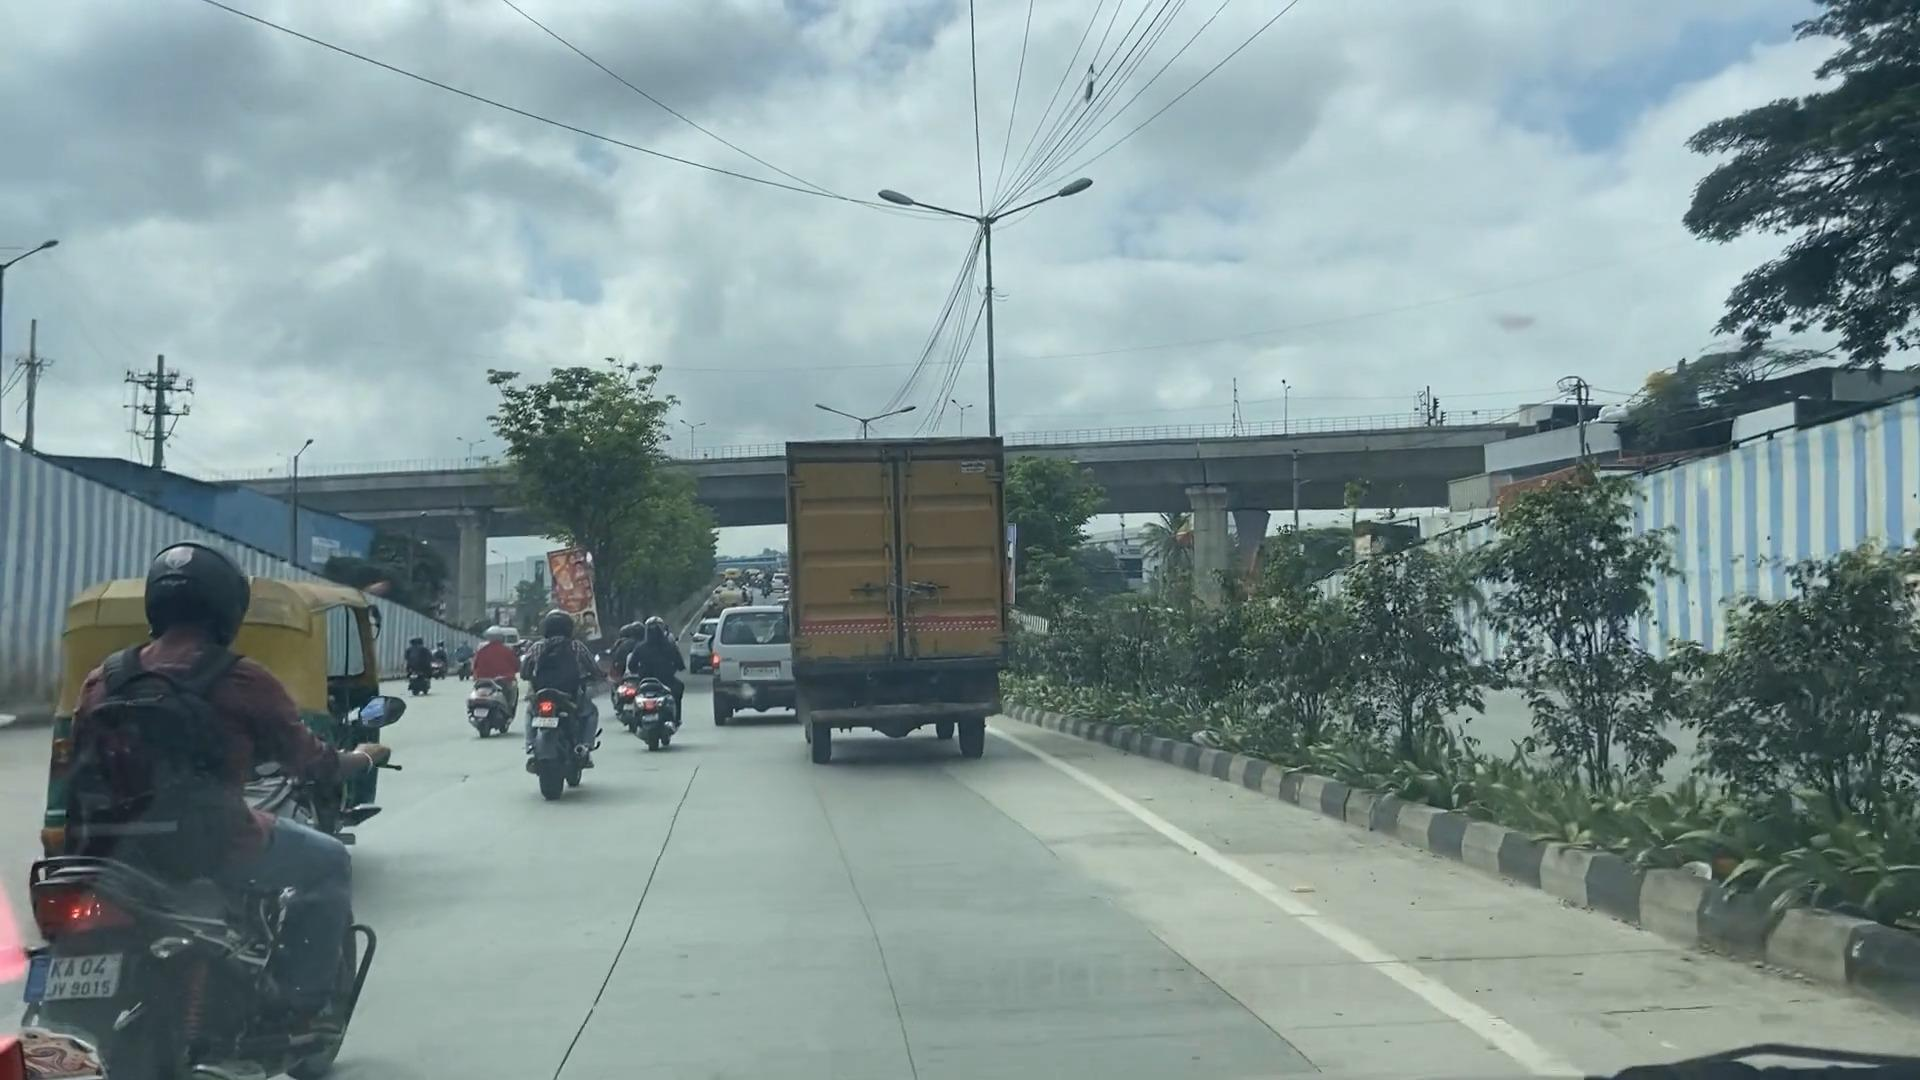HMV: (783, 430, 976, 716)
LMV: (42, 613, 423, 1080), (524, 613, 617, 804), (613, 611, 690, 766)
